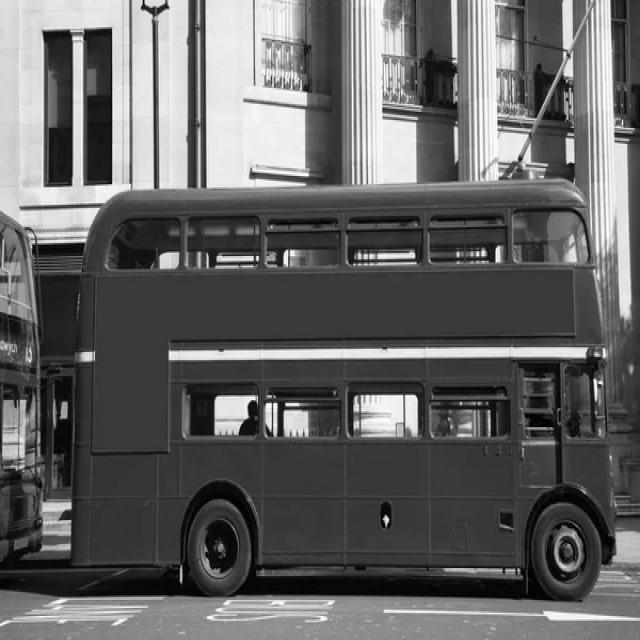Bus: (70, 181, 618, 601)
